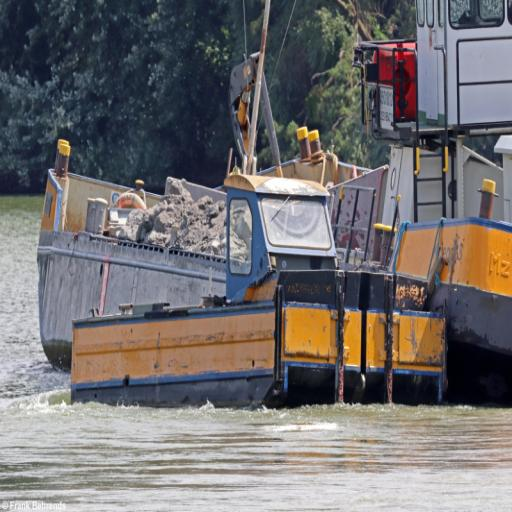tugboat: (67, 167, 452, 416)
